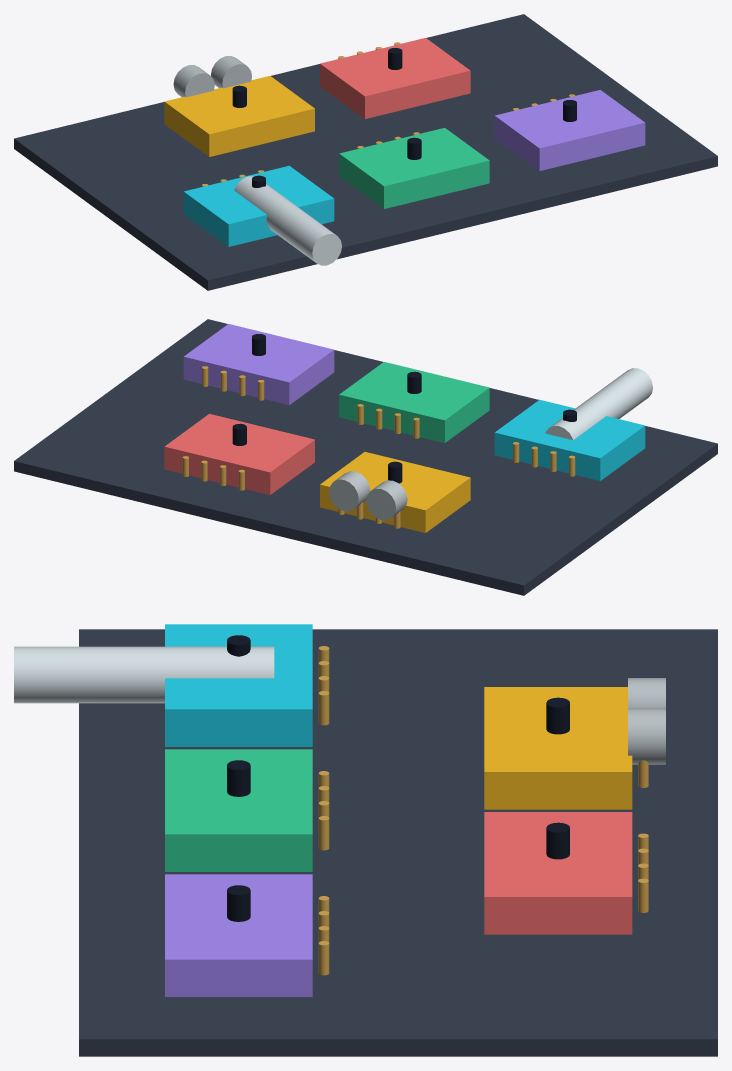
Rendered from sensor-pack.glb.
3 renders of one model, top to bottom at view 1: azimuth 30°, elevation 25°; view 2: azimuth 150°, elevation 25°; view 3: azimuth 270°, elevation 25°, orthographic. The views are drawn at different scales.
Parts seen in each view (by area): view 1: Sensor carrier, Turbidity module, TDS module, Pump driver, Ultrasonic level, pH probe, pH probe body, ultrasonic transducer A, ultrasonic transducer B; view 2: Sensor carrier, Turbidity module, TDS module, Pump driver, pH probe, Ultrasonic level, pH probe body, ultrasonic transducer A, ultrasonic transducer B; view 3: Sensor carrier, Pump driver, Turbidity module, TDS module, Ultrasonic level, pH probe, pH probe body, ultrasonic transducer B, ultrasonic transducer A, Ultrasonic level connector, Pump driver connector, Turbidity module connector (+1 smaller).
Boxes of the visible parts, <box> form: Sensor carrier: <box>14,14,717,290</box>; Turbidity module: <box>339,128,489,208</box>; TDS module: <box>494,90,645,171</box>; Pump driver: <box>320,38,470,118</box>; Ultrasonic level: <box>164,76,314,156</box>; pH probe: <box>183,165,334,246</box>; pH probe body: <box>234,176,341,265</box>; ultrasonic transducer A: <box>173,65,214,97</box>; ultrasonic transducer B: <box>211,56,251,88</box>; Sensor carrier: <box>14,319,717,595</box>; Turbidity module: <box>339,362,489,442</box>; TDS module: <box>183,324,334,405</box>; Pump driver: <box>164,414,314,494</box>; pH probe: <box>494,399,645,480</box>; Ultrasonic level: <box>320,452,470,532</box>; pH probe body: <box>545,368,652,439</box>; ultrasonic transducer A: <box>366,480,407,520</box>; ultrasonic transducer B: <box>329,471,370,511</box>; Sensor carrier: <box>79,629,717,1056</box>; Pump driver: <box>484,812,632,934</box>; Turbidity module: <box>165,749,312,871</box>; TDS module: <box>165,874,312,996</box>; Ultrasonic level: <box>484,687,632,809</box>; pH probe: <box>165,624,312,746</box>; pH probe body: <box>14,646,274,703</box>; ultrasonic transducer B: <box>628,708,665,764</box>; ultrasonic transducer A: <box>628,678,665,707</box>; Ultrasonic level connector: <box>546,697,569,734</box>; Pump driver connector: <box>546,822,569,859</box>; Turbidity module connector: <box>227,760,250,796</box>.
Bounding box in the file's own units: 8.2 × 0.87 × 5.95.
